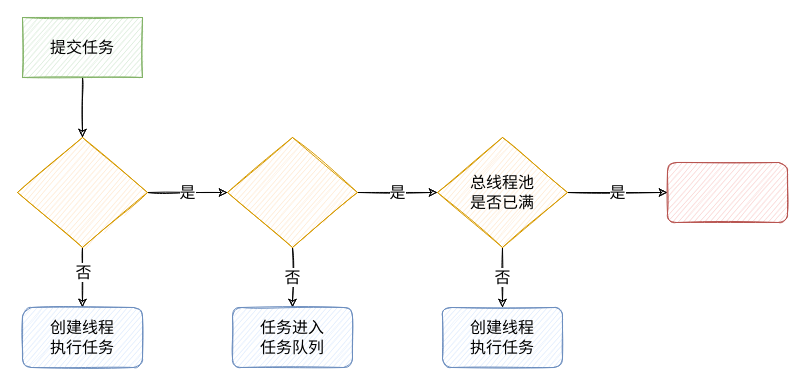
The diagram is 805 pixels wide and 385 high, and some of its shapes have lost their labels. Each missing label, with the box of its shape:
任务队列 是否已满: (226, 136, 358, 248)
拒绝策略: (666, 162, 788, 222)
核心线程池 是否已满: (16, 136, 148, 248)
